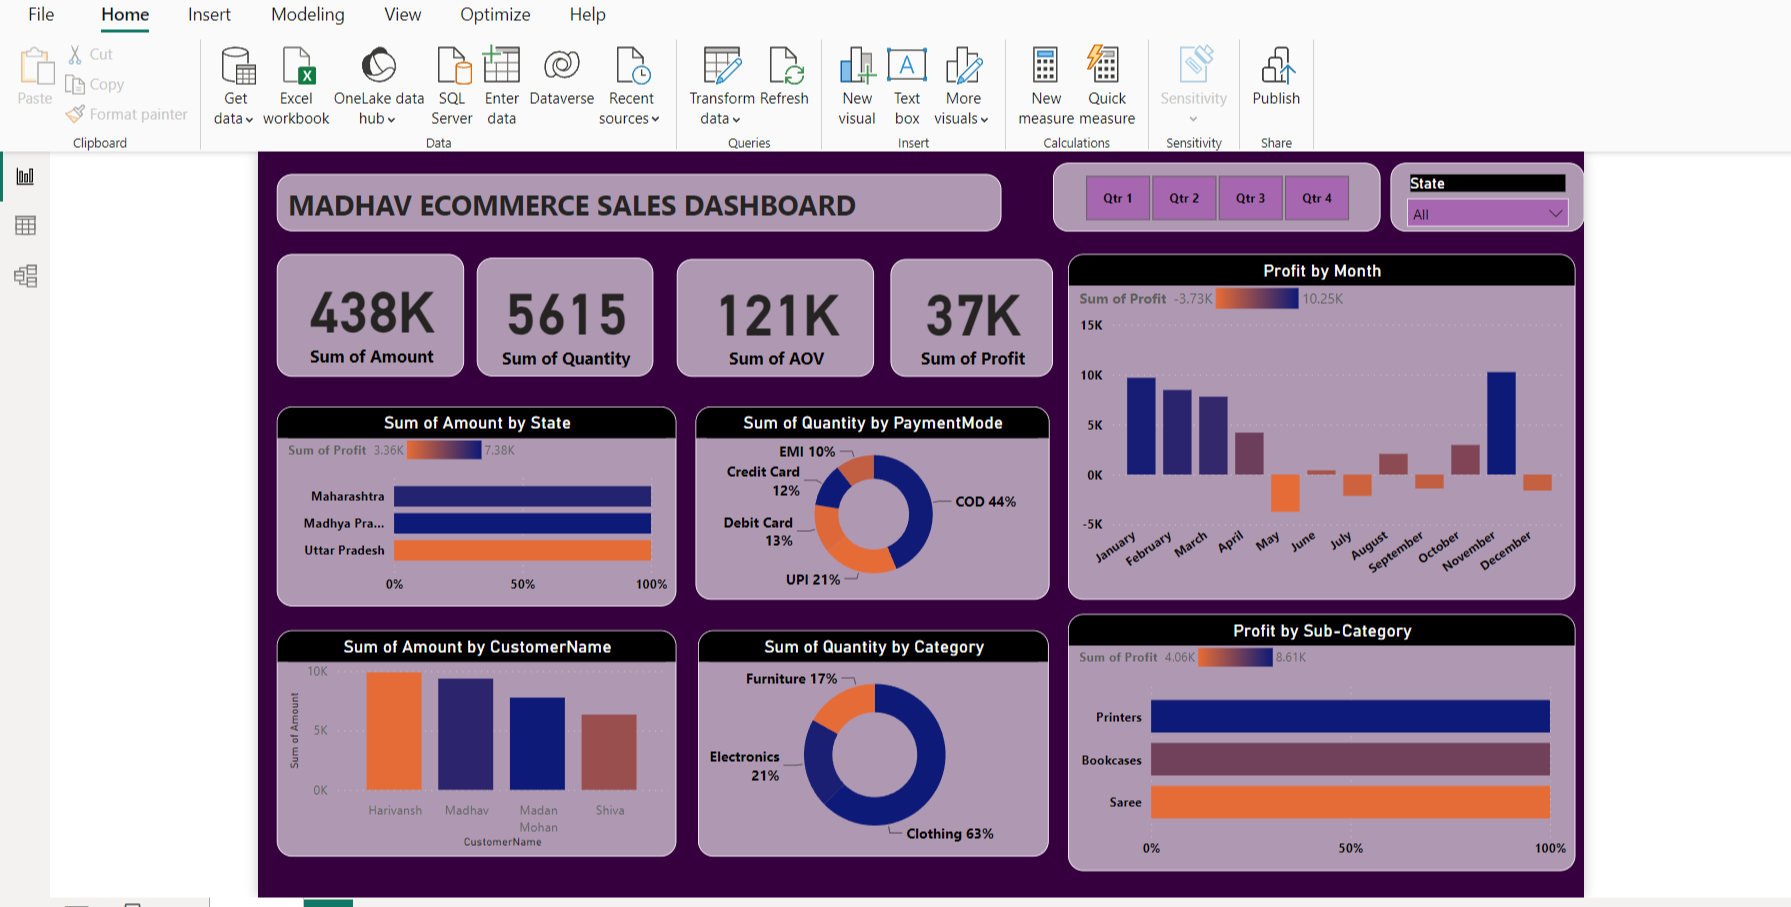

This screenshot's page, from the dashboard's own definition file:
{"tool":"powerbi","page":{"name":"Page 1","canvas":[1280,720],"ordinal":0},"visuals":[{"type":"textbox","box":[17.5,21.6,699,55.3],"z":0},{"type":"columnChart","title":"Profit by Month","fields":{"Y":["Details.Profit"],"Category":["Orders.Order Date.Variation.Date Hierarchy.Month"]},"box":[781.3,98.5,489.8,333.3],"z":1000},{"type":"hundredPercentStackedBarChart","title":" Profit by Sub-Category","fields":{"Category":["Details.Sub-Category"],"Y":["Details.Profit"]},"box":[781.3,446.6,489.8,248.3],"z":2000},{"type":"donutChart","fields":{"Category":["Details.Category"],"Y":["Details.Quantity"]},"box":[425.1,461.5,338.7,218.6],"z":3000},{"type":"donutChart","fields":{"Y":["Details.Quantity"],"Category":["Details.PaymentMode"]},"box":[422.4,245.6,341.4,186.2],"z":4000},{"type":"card","fields":{"Values":["Details.Amount"]},"box":[17.5,98.5,180.8,118.7],"z":5000},{"type":"card","fields":{"Values":["Details.Quantity"]},"box":[210.5,102.6,170,114.7],"z":6000},{"type":"card","fields":{"Values":["Details.Profit"]},"box":[609.9,103.9,156.5,113.3],"z":7000},{"type":"card","fields":{"Values":["Details.AOV"]},"box":[403.5,103.9,190.3,113.3],"z":8000},{"type":"hundredPercentStackedBarChart","fields":{"Category":["Orders.State"],"Y":["Details.Amount"]},"box":[17.5,245.6,385.9,193],"z":9000},{"type":"columnChart","fields":{"Category":["Orders.CustomerName"],"Y":["Details.Amount"]},"box":[17.5,461.5,385.9,218.6],"z":10000},{"type":"slicer","fields":{"Values":["Orders.Order Date.Variation.Date Hierarchy.Quarter"]},"box":[766.4,10.8,315.8,66.1],"z":11000},{"type":"slicer","fields":{"Values":["Orders.State"]},"box":[1093,10.8,187.6,66.1],"z":12000}]}

Visuals, with their boxes on the page's 1280x720 design canvas (x1, y1, x2, y2). These are canvas units, not pixel positions in the 1791x907 screenshot, which may show the page scaled, cropped or inside an application window:
textbox: Rect(18, 22, 716, 77)
"Profit by Month" columnChart: Rect(781, 98, 1271, 432)
" Profit by Sub-Category" hundredPercentStackedBarChart: Rect(781, 447, 1271, 695)
donutChart - Details.Category x Details.Quantity: Rect(425, 462, 764, 680)
donutChart - Details.Quantity x Details.PaymentMode: Rect(422, 246, 764, 432)
card - Details.Amount: Rect(18, 98, 198, 217)
card - Details.Quantity: Rect(210, 103, 380, 217)
card - Details.Profit: Rect(610, 104, 766, 217)
card - Details.AOV: Rect(404, 104, 594, 217)
hundredPercentStackedBarChart - Orders.State x Details.Amount: Rect(18, 246, 403, 439)
columnChart - Orders.CustomerName x Details.Amount: Rect(18, 462, 403, 680)
slicer - Orders.Order Date.Variation.Date Hierarchy.Quarter: Rect(766, 11, 1082, 77)
slicer - Orders.State: Rect(1093, 11, 1281, 77)
